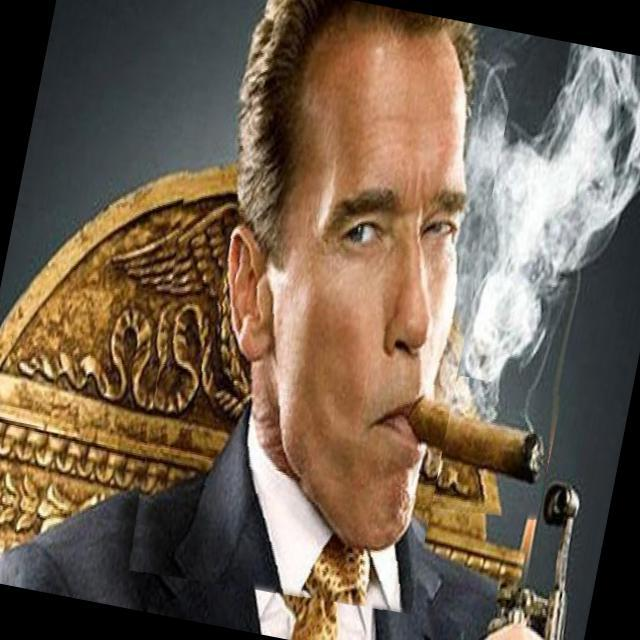cigarette: (352, 360, 562, 533)
